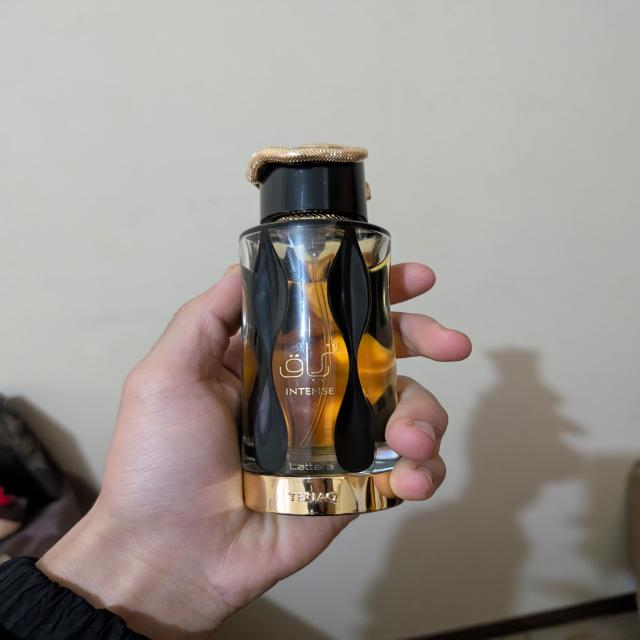Teriaq-Intense: (236, 142, 405, 516)
